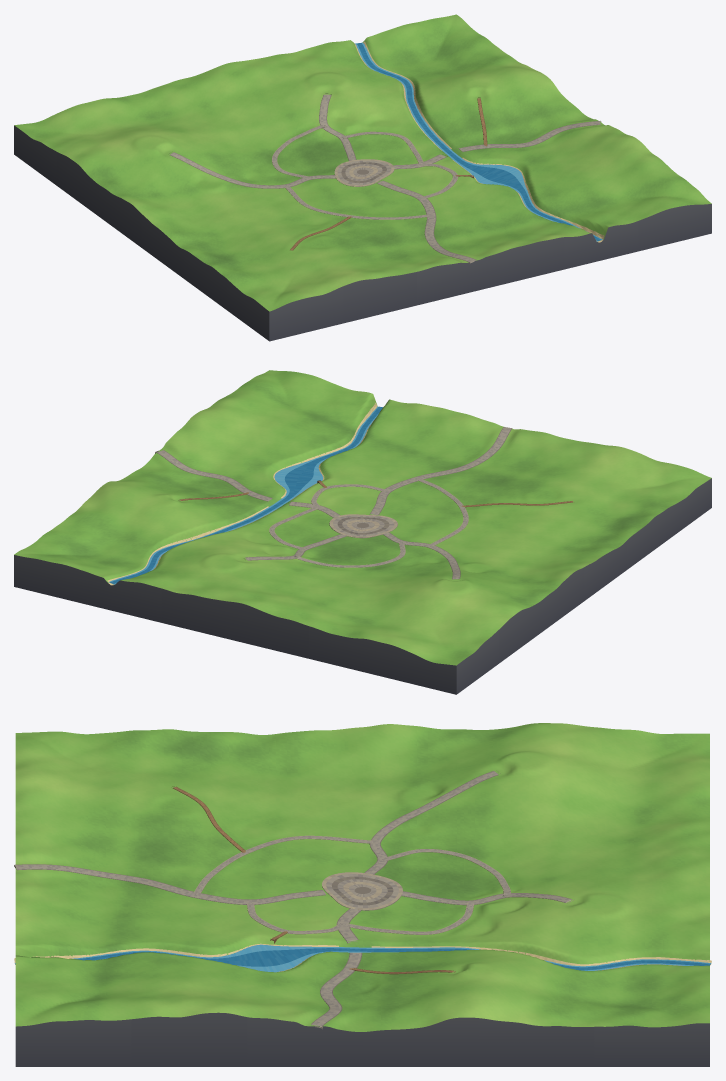
The model's file is village_terrain.fbx.
The picture shows the model from 3 angles, top to bottom: view 1: azimuth 30°, elevation 25°; view 2: azimuth 150°, elevation 25°; view 3: azimuth 270°, elevation 25°; orthographic projection. The views are drawn at different scales.
Parts seen in each view (by area): view 1: terrain_r0_c0, terrain_r0_c5, terrain_r0_c1, terrain_r4_c0, terrain_r3_c0, terrain_r0_c4, terrain_r0_c3, terrain_r0_c2, terrain_r2_c0, terrain_r3_c5, terrain_r5_c0, terrain_r1_c0 (+32 smaller); view 2: terrain_r5_c0, terrain_r5_c3, terrain_r5_c2, terrain_r5_c1, terrain_r5_c5, terrain_r0_c0, terrain_r4_c0, terrain_r1_c0, terrain_r5_c4, terrain_r4_c5, terrain_r0_c3, terrain_r2_c0 (+30 smaller); view 3: terrain_r4_c5, terrain_r3_c5, terrain_r1_c5, terrain_r0_c5, terrain_r5_c5, terrain_r2_c5, terrain_r4_c1, terrain_r2_c0, terrain_r3_c0, terrain_r0_c1, terrain_r1_c0, terrain_r5_c4 (+34 smaller).
Part boxes in pixels (bbox=[...]): terrain_r0_c0: bbox=[227, 262, 343, 341]; terrain_r0_c5: bbox=[596, 167, 711, 251]; terrain_r0_c1: bbox=[301, 248, 416, 323]; terrain_r4_c0: bbox=[56, 131, 172, 216]; terrain_r3_c0: bbox=[99, 161, 214, 247]; terrain_r0_c4: bbox=[522, 191, 638, 269]; terrain_r0_c3: bbox=[448, 215, 564, 287]; terrain_r0_c2: bbox=[375, 235, 490, 305]; terrain_r2_c0: bbox=[141, 206, 257, 278]; terrain_r3_c5: bbox=[468, 71, 583, 135]; terrain_r5_c0: bbox=[14, 102, 129, 185]; terrain_r1_c0: bbox=[184, 236, 300, 309]; terrain_r5_c0: bbox=[382, 609, 498, 694]; terrain_r5_c3: bbox=[161, 556, 276, 640]; terrain_r5_c2: bbox=[235, 578, 350, 658]; terrain_r5_c1: bbox=[309, 600, 424, 676]; terrain_r5_c5: bbox=[14, 526, 129, 604]; terrain_r0_c0: bbox=[596, 452, 711, 538]; terrain_r4_c0: bbox=[425, 576, 541, 663]; terrain_r1_c0: bbox=[553, 491, 669, 569]; terrain_r5_c4: bbox=[87, 549, 203, 622]; terrain_r4_c5: bbox=[57, 487, 172, 548]; terrain_r0_c3: bbox=[374, 403, 490, 463]; terrain_r2_c0: bbox=[511, 527, 626, 600]; terrain_r4_c5: bbox=[478, 964, 594, 1066]; terrain_r3_c5: bbox=[363, 964, 478, 1066]; terrain_r1_c5: bbox=[131, 976, 247, 1066]; terrain_r0_c5: bbox=[15, 976, 131, 1066]; terrain_r5_c5: bbox=[594, 974, 709, 1066]; terrain_r2_c5: bbox=[247, 982, 362, 1066]; terrain_r4_c1: bbox=[478, 763, 594, 837]; terrain_r2_c0: bbox=[247, 727, 362, 790]; terrain_r3_c0: bbox=[363, 724, 478, 790]; terrain_r0_c1: bbox=[15, 771, 131, 835]; terrain_r1_c0: bbox=[131, 729, 247, 788]; terrain_r5_c4: bbox=[594, 921, 709, 986].
Size of the model in its own units: 771 by 72.12 by 772.
Materials: 1 (1 with a texture image).
